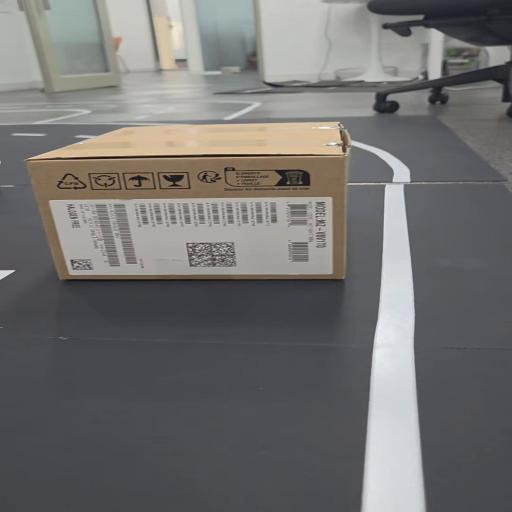Box: (24, 119, 374, 279)
